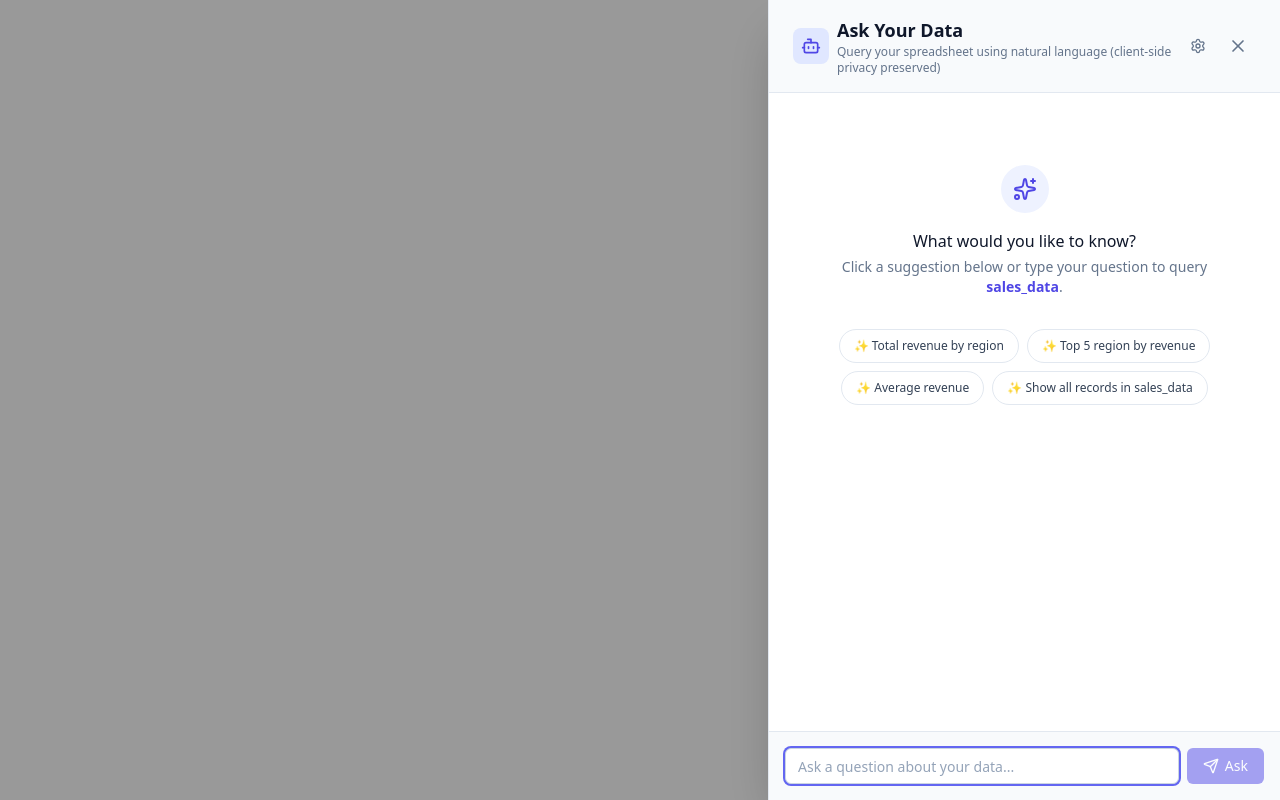
Scenario: Phase 5 Frontend Chat & LLM UI Components (`apps/web/test/chat.test.tsx`) › Test 2: AskYourDataDrawer handles API error and 429 rate limit gracefully
Type "Average revenue" into the field with placeholder "Ask a question about your data...". click: (982, 766)
box: [785,748,1179,784]
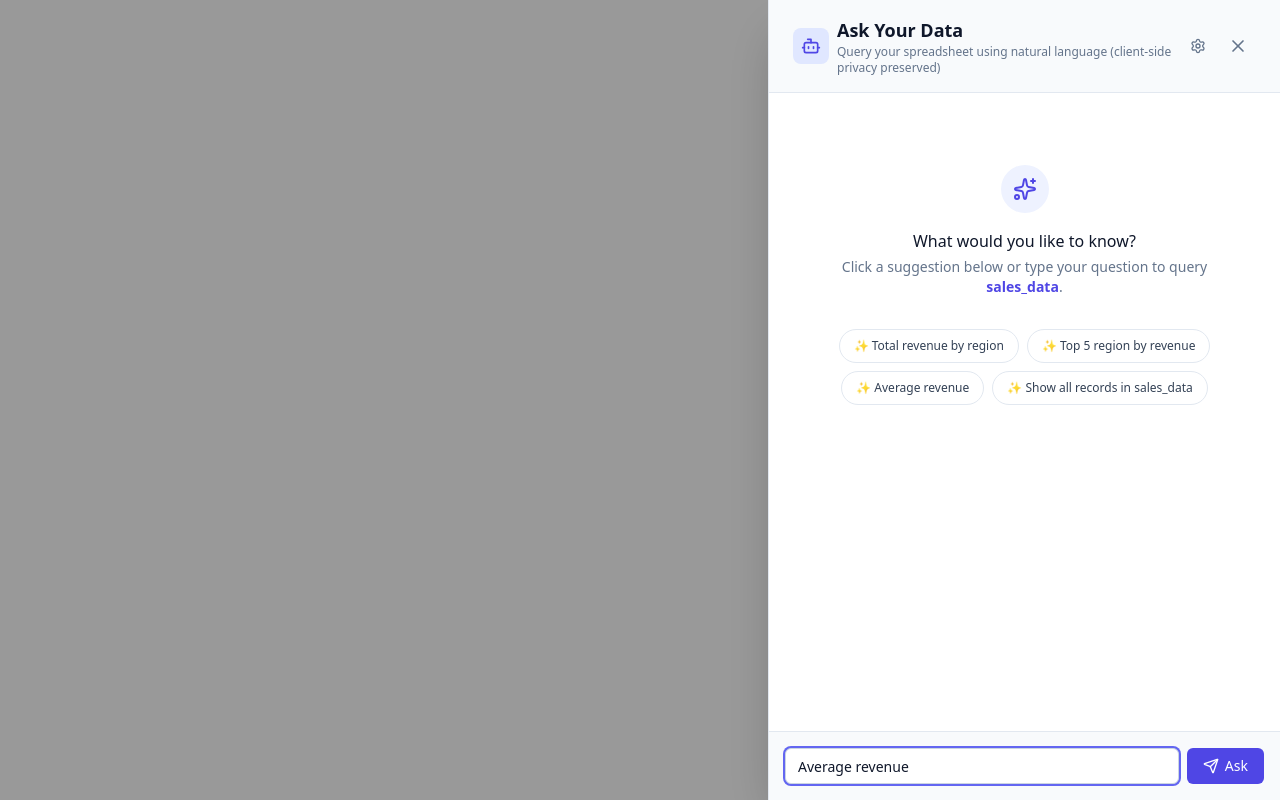
Click the button "Ask". click: (1225, 766)
box: [1187,748,1264,784]
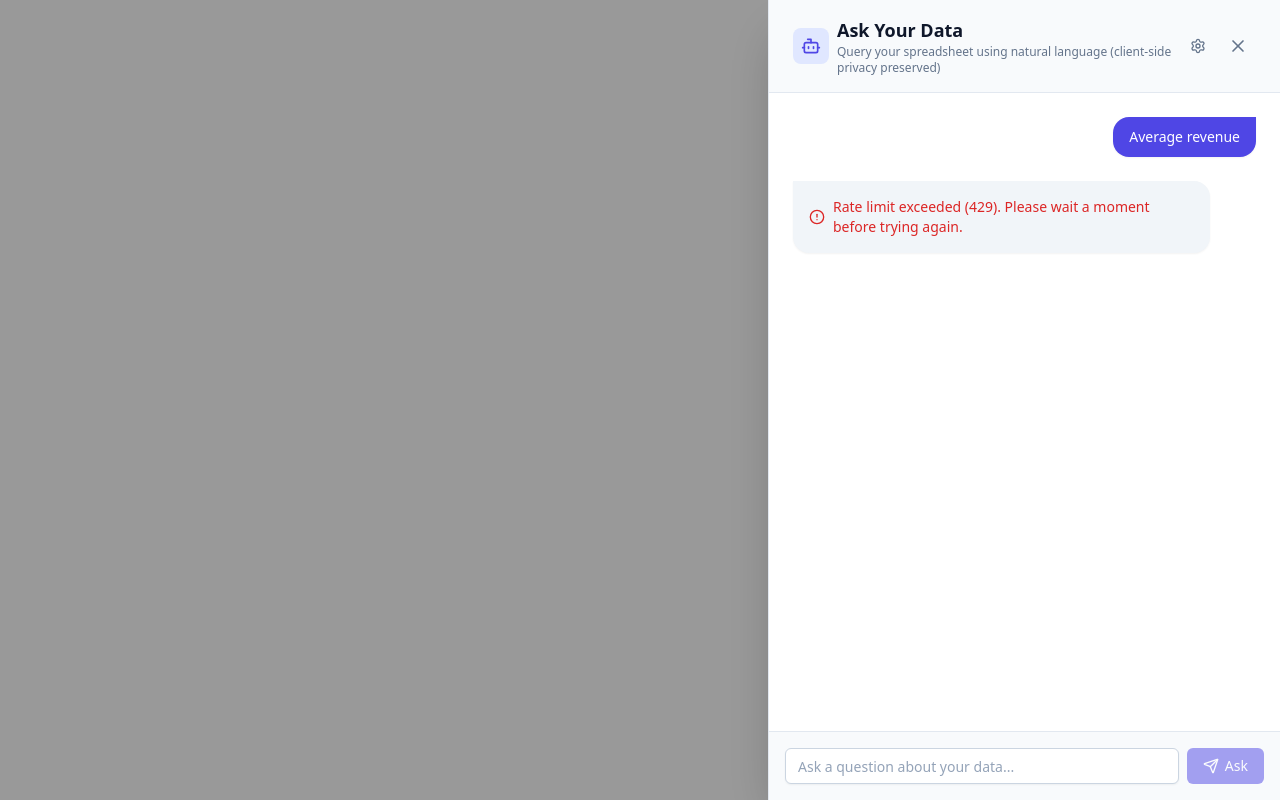
expect the text "Rate limit exceeded (429)" is shown: met, box [833,197,1150,236]
